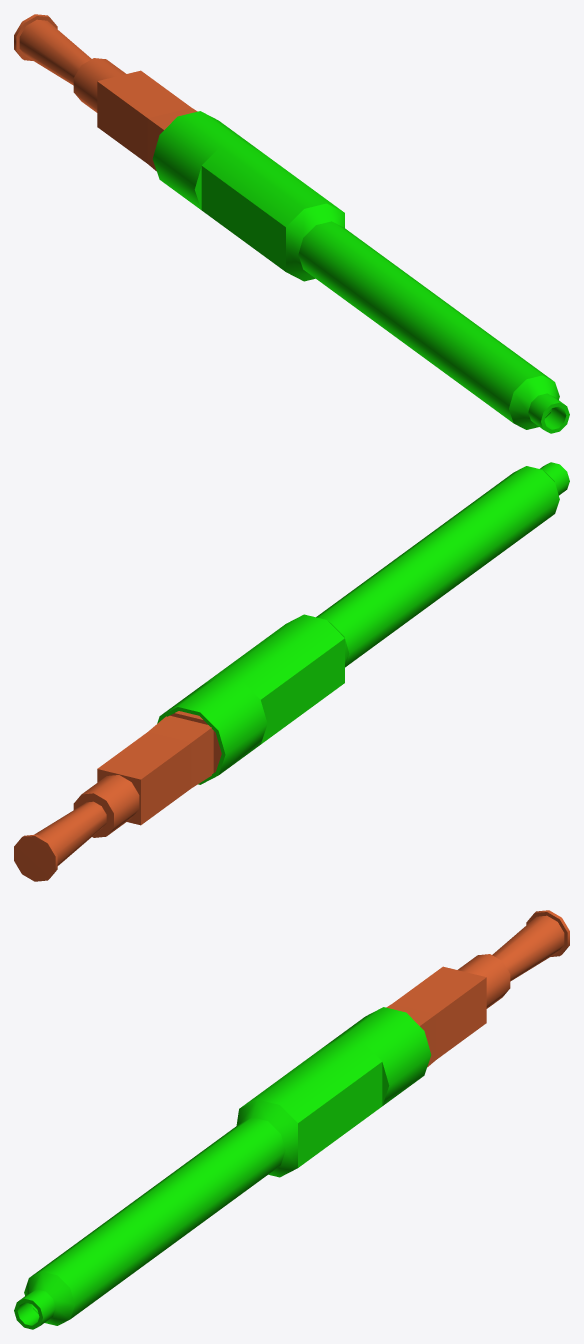
The model's file is Canula_LowPoly_v5.fbx.
The picture shows the model from 3 angles, top to bottom: view 1: azimuth 30°, elevation 25°; view 2: azimuth 150°, elevation 25°; view 3: azimuth 330°, elevation 25°; orthographic projection.
Visible parts, largest first — view 1: pCylinder19, polySurface6, pCylinder13, polySurface5; view 2: pCylinder19, polySurface6, pCylinder13, polySurface5; view 3: pCylinder19, polySurface6, pCylinder13, polySurface5.
Part boxes in pixels (x1,y1,x2,y2): pCylinder19: [152, 111, 569, 433]; polySurface6: [97, 70, 197, 171]; pCylinder13: [14, 14, 91, 85]; polySurface5: [73, 58, 125, 112]; pCylinder19: [157, 462, 569, 784]; polySurface6: [97, 715, 213, 825]; pCylinder13: [14, 801, 106, 881]; polySurface5: [73, 775, 139, 837]; pCylinder19: [14, 1007, 431, 1329]; polySurface6: [386, 966, 486, 1067]; pCylinder13: [492, 910, 569, 981]; polySurface5: [458, 954, 510, 1008].
Bounding box in the file's own units: 0.9998 × 0.9509 × 12.36.
